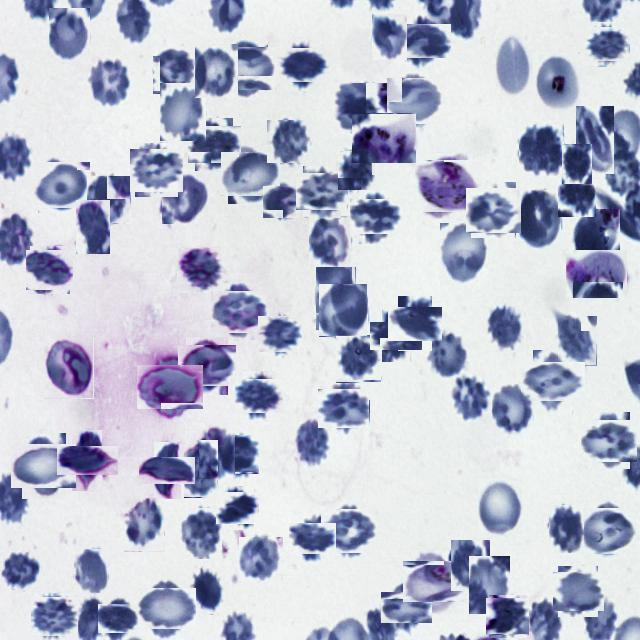difficult: (418, 156, 477, 216), (566, 250, 628, 299)
red blood cell: (17, 438, 72, 494), (142, 359, 198, 414), (44, 338, 94, 399), (440, 223, 488, 286), (570, 209, 620, 266), (580, 504, 634, 556), (220, 42, 272, 96), (527, 356, 579, 408), (224, 148, 276, 200), (335, 82, 387, 134), (160, 83, 206, 141), (468, 184, 519, 236), (324, 506, 376, 556), (319, 284, 368, 337), (478, 478, 522, 537), (576, 106, 614, 174), (316, 267, 356, 331), (517, 190, 561, 248), (36, 160, 87, 210), (390, 75, 440, 126), (214, 286, 264, 336), (584, 416, 634, 466), (182, 340, 232, 390), (141, 584, 191, 634), (162, 172, 210, 224), (496, 33, 532, 100), (469, 556, 510, 614), (86, 56, 131, 108), (519, 124, 564, 176), (195, 44, 238, 98), (132, 146, 180, 194), (492, 384, 534, 438), (309, 216, 351, 269), (49, 8, 90, 62), (124, 498, 165, 552), (336, 335, 382, 383), (191, 121, 237, 168), (180, 508, 222, 559), (555, 568, 601, 614), (322, 386, 368, 432), (87, 176, 131, 224), (64, 438, 110, 483), (426, 328, 467, 378), (392, 302, 438, 346), (451, 540, 490, 591), (178, 247, 222, 292), (184, 440, 218, 498), (558, 316, 597, 366), (451, 373, 490, 423), (486, 301, 524, 352), (152, 48, 196, 92), (239, 537, 283, 581), (28, 248, 72, 292), (354, 194, 398, 238), (300, 170, 344, 214), (32, 594, 76, 638), (402, 19, 447, 62), (214, 433, 258, 476), (292, 419, 330, 468), (267, 120, 310, 163), (280, 44, 324, 86), (199, 428, 235, 479), (146, 449, 188, 492), (76, 200, 110, 253), (188, 568, 226, 615), (238, 374, 280, 416), (549, 505, 585, 554), (385, 587, 427, 628), (259, 314, 300, 354), (376, 315, 416, 356), (372, 14, 407, 60), (292, 518, 332, 558), (588, 24, 628, 64), (488, 596, 528, 636), (74, 549, 109, 594), (338, 151, 376, 191), (1, 552, 41, 590), (558, 177, 596, 217), (219, 489, 257, 527), (264, 184, 300, 220), (101, 601, 136, 636), (562, 144, 592, 184)
trophozoite: (352, 112, 416, 162), (408, 555, 462, 608), (534, 52, 580, 113)
